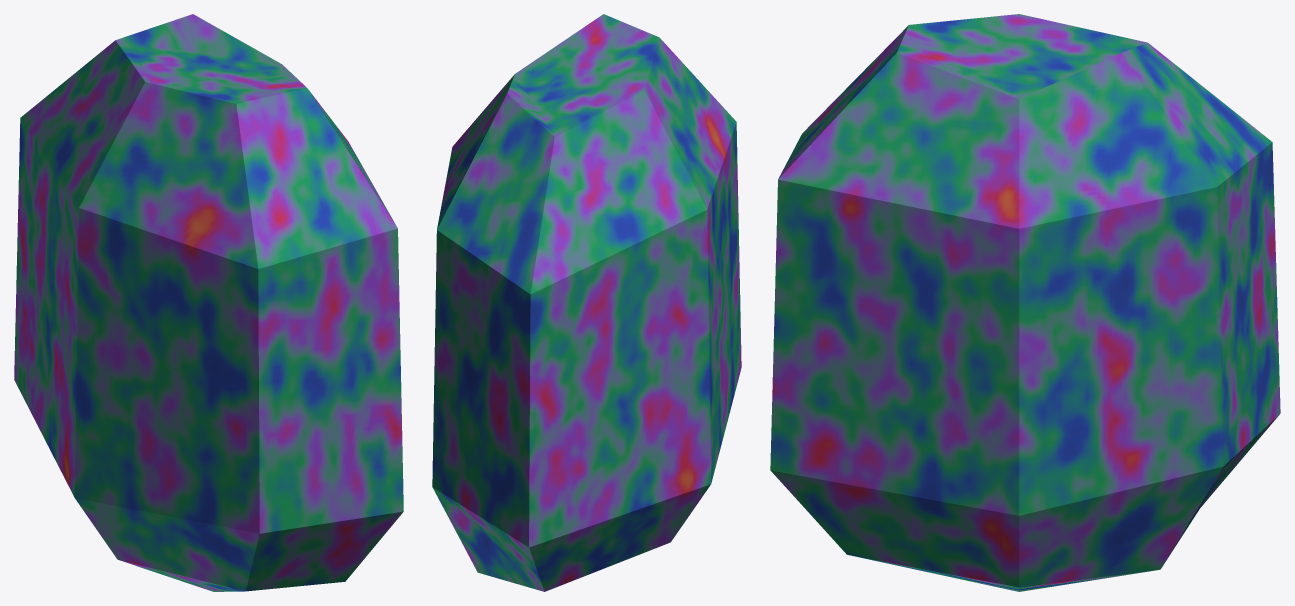
File: SM_Opal_Flawed.fbx
3 views of the same model, side by side, from view 1: azimuth 30°, elevation 25°; view 2: azimuth 150°, elevation 25°; view 3: azimuth 270°, elevation 25° (orthographic). The views are drawn at different scales.
Visible parts, largest first — view 1: SM_Opal_Flawed; view 2: SM_Opal_Flawed; view 3: SM_Opal_Flawed.
Boxes of the visible parts, left/top/right/bottom form: SM_Opal_Flawed: left=14, top=14, right=403, bottom=591; SM_Opal_Flawed: left=432, top=14, right=741, bottom=591; SM_Opal_Flawed: left=770, top=14, right=1280, bottom=591.
Size of the model in its own units: 9.36 by 14.42 by 17.35.
